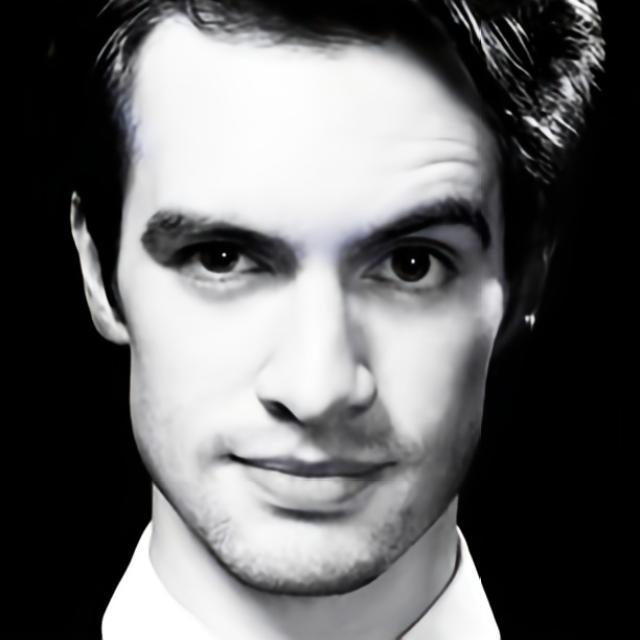content: (119, 3, 507, 594)
